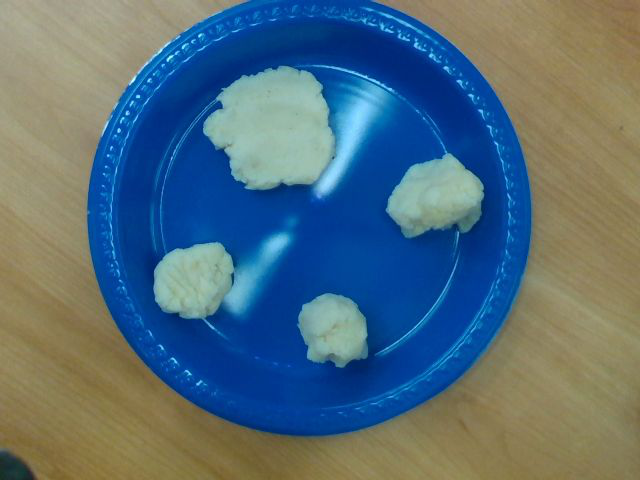mashed_potato: (207, 68, 333, 187), (387, 154, 482, 234), (153, 240, 233, 319), (298, 293, 370, 366)
